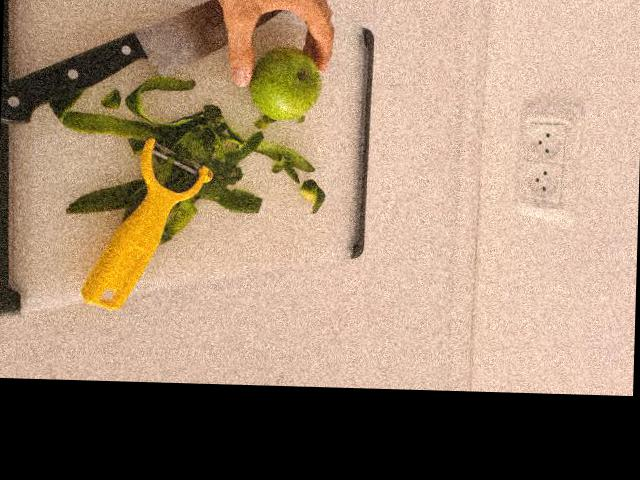apple: (247, 46, 324, 124)
